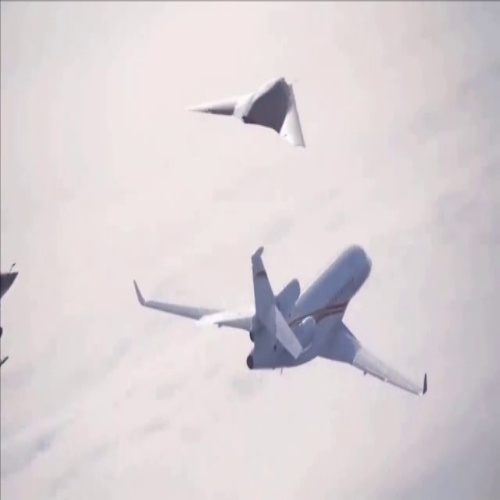uav852: (183, 75, 315, 149)
